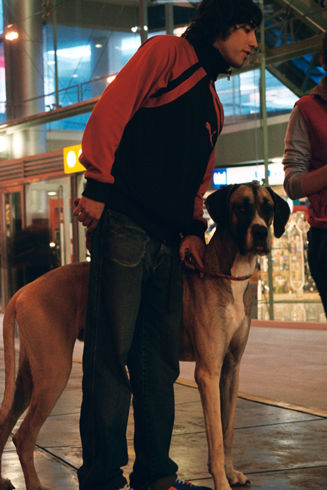without_mask: (206, 9, 264, 71)
